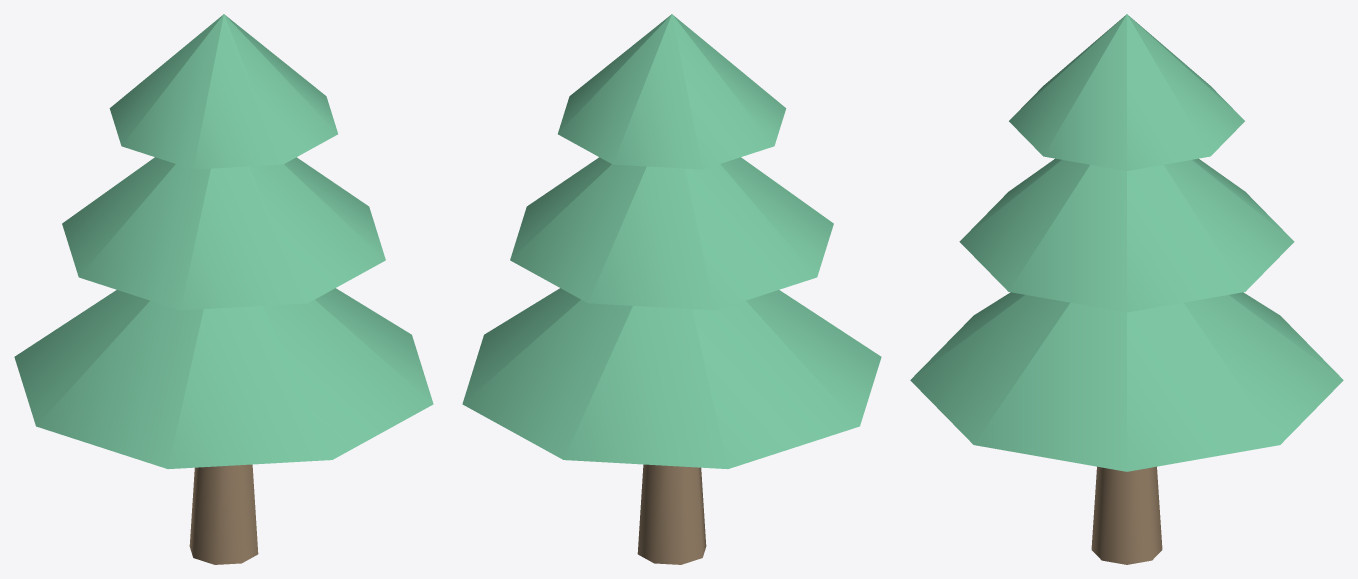
File: tree-1.glb
The picture shows the model from 3 angles, left to right: view 1: azimuth 30°, elevation 25°; view 2: azimuth 150°, elevation 25°; view 3: azimuth 270°, elevation 25°; orthographic projection.
Size of the model in its own units: 2.2 by 3 by 2.2.
